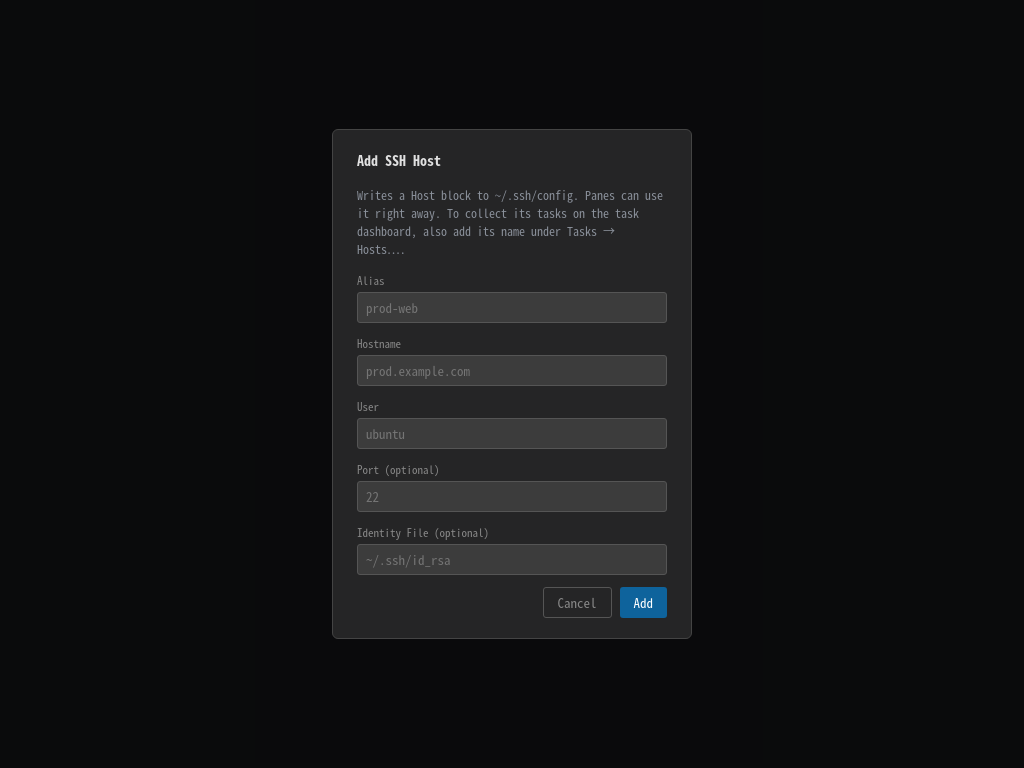
Test: AddSSHHostDialog › validates required fields before submitting
This screenshot has width=1024, height=768.
Click the button "Add": x=643, y=602 [620,587,667,618]
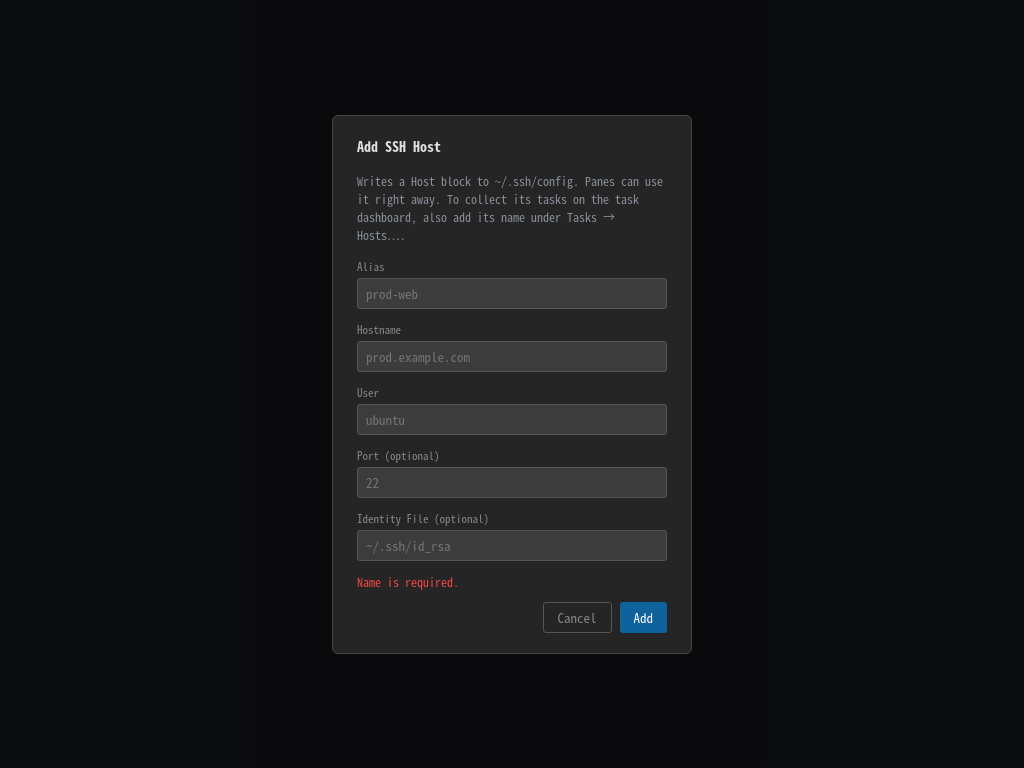
Expected: the text "Name is required." is shown, [357,572,459,590]
